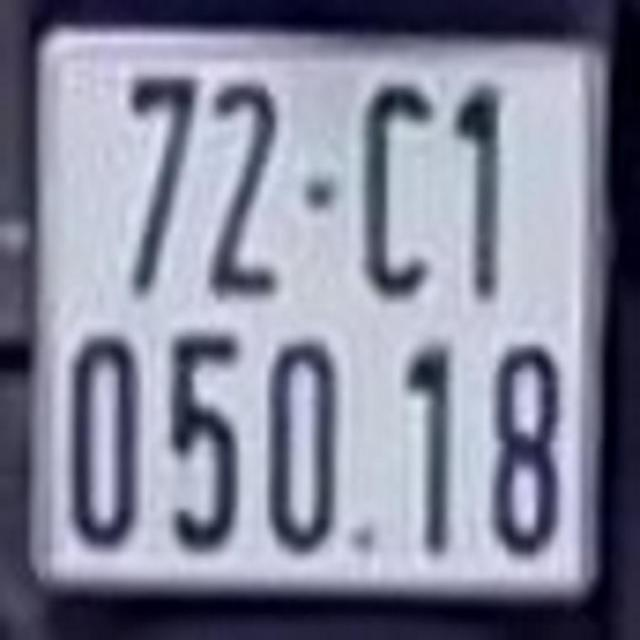0: (268, 337, 337, 553), (71, 334, 140, 548)
1: (454, 74, 502, 301), (408, 344, 452, 553)
2: (218, 77, 276, 300)
5: (169, 335, 242, 554)
7: (126, 73, 200, 290)
8: (496, 345, 561, 554)
C: (365, 80, 439, 299)
